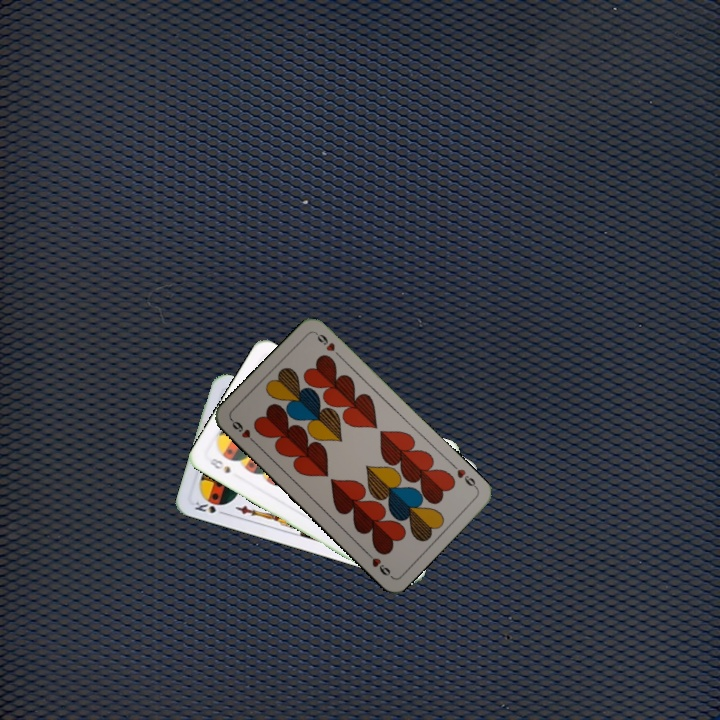H9: (227, 415, 260, 447), (453, 465, 480, 492)
S8: (205, 454, 233, 476)
SK: (190, 497, 229, 518)
